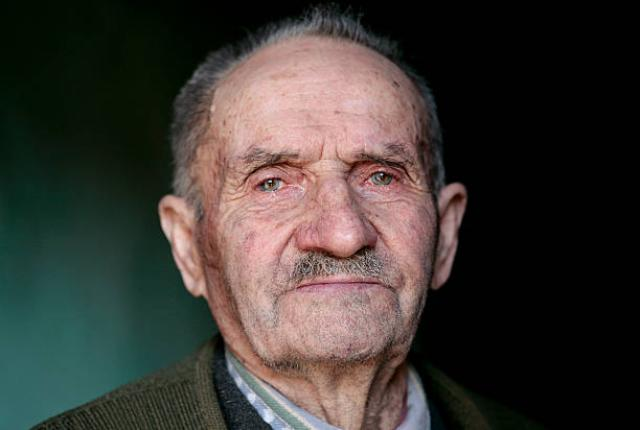crows_feet: (402, 164, 426, 202), (224, 172, 250, 206)
frown_line: (315, 141, 343, 167)
gummy_smile: (368, 217, 392, 251), (276, 226, 298, 262)
